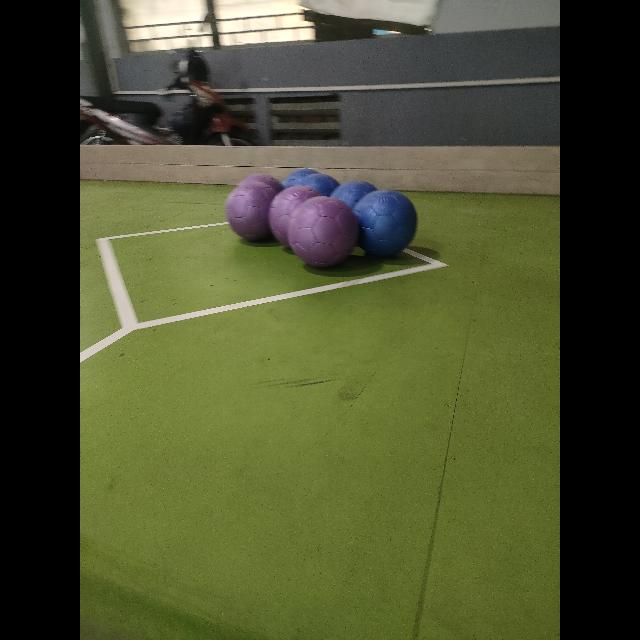B: (354, 190, 416, 256), (302, 174, 340, 196)
P: (287, 196, 358, 266), (226, 184, 274, 240)
